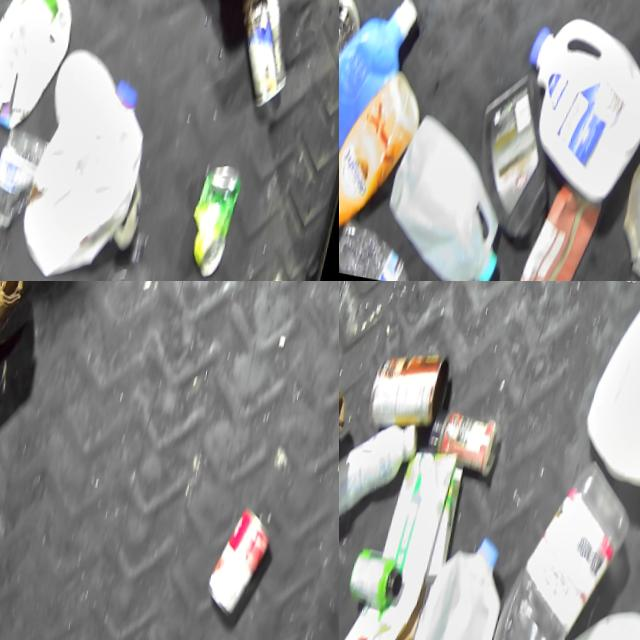can: (208, 494, 294, 623), (365, 340, 459, 440), (423, 397, 517, 489), (190, 146, 252, 269)
milk_jug: (21, 50, 165, 281), (381, 104, 539, 281), (509, 9, 640, 206), (382, 524, 528, 640), (575, 281, 640, 504)
non_white_jug: (339, 0, 434, 191), (339, 61, 432, 249)
plastic_bottle: (339, 414, 422, 529), (0, 103, 62, 240), (339, 216, 450, 281), (91, 223, 167, 281)
